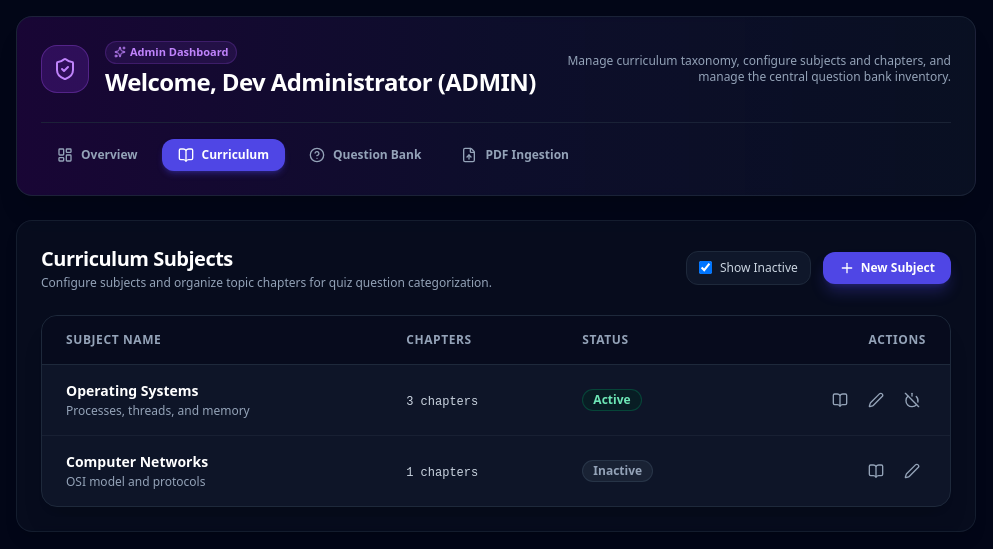
Test: Admin Subject & Chapter Management UI (PROMPT 11) › navigates into nested chapters view when clicking a subject
Note: Click the subject to view chapters
What coordinates should you click on to do the following:
click the button "Operating Systems"
I would click on:
 (132, 390)
Its box is x1=66 y1=380 x2=199 y2=400.
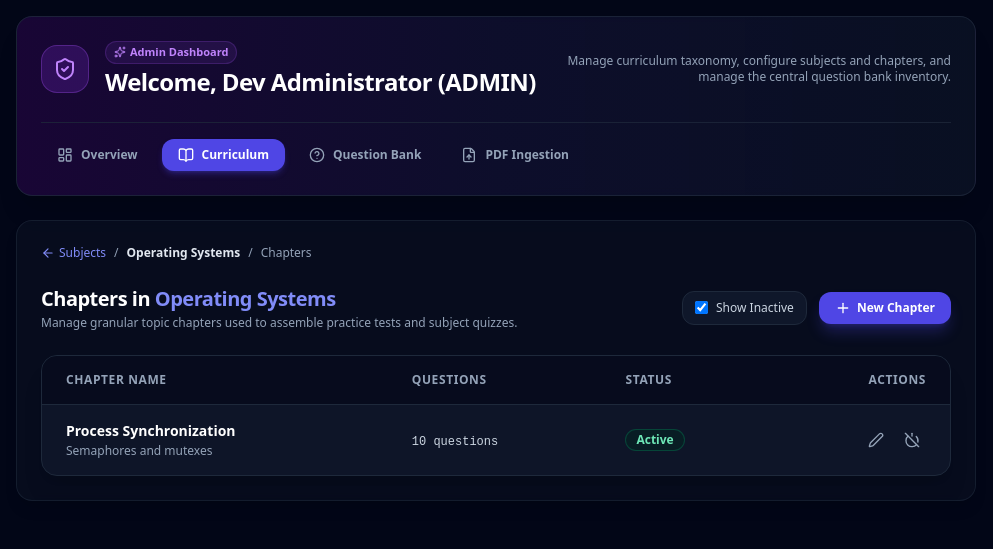
Now the heading "Chapters in Operating Systems" is shown, box x1=41 y1=284 x2=336 y2=312
Now the text "Process Synchronization" is shown, box x1=66 y1=420 x2=236 y2=440
Now the text "10 questions" is shown, box x1=412 y1=434 x2=498 y2=448
